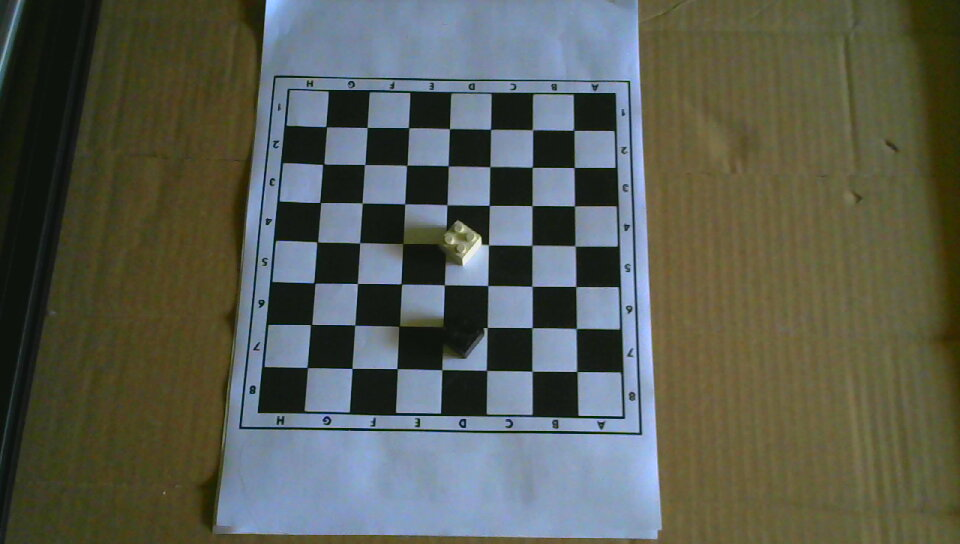bp: (440, 313, 485, 359)
wp: (437, 220, 483, 266)
